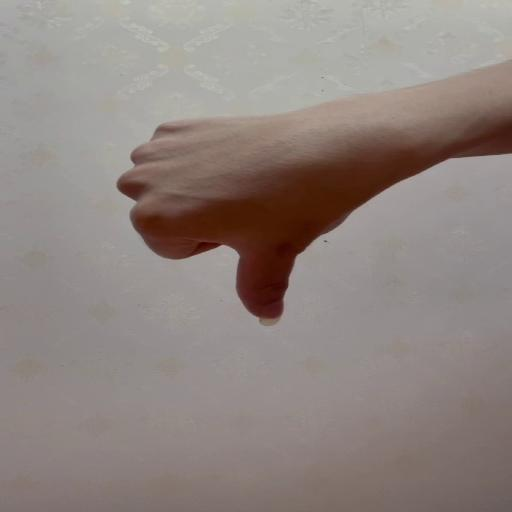thumbs_down: (116, 115, 381, 328)
